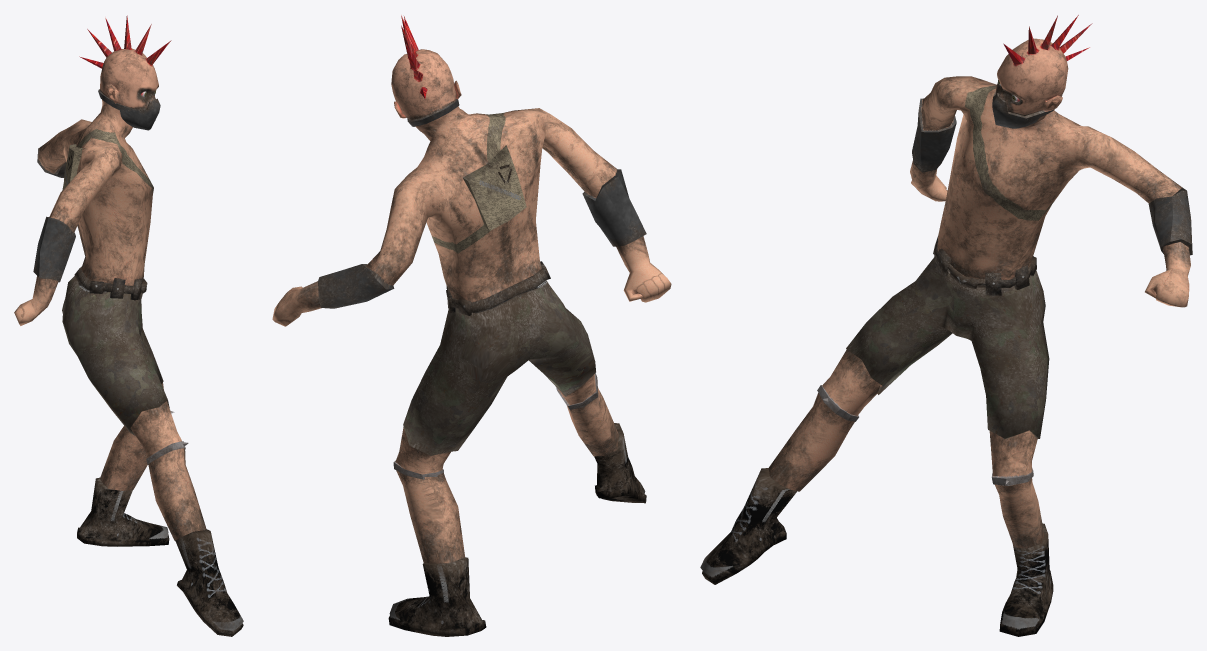
Rendered from Anim_ataque_f2_npc2.0023.obj.
The picture shows the model from 3 angles, left to right: view 1: azimuth 30°, elevation 25°; view 2: azimuth 150°, elevation 25°; view 3: azimuth 270°, elevation 25°; orthographic projection. The views are drawn at different scales.
Parts seen in each view (by area): view 1: polySurface1; view 2: polySurface1; view 3: polySurface1.
Boxes of the visible parts, bbox=[...] form: polySurface1: bbox=[14, 15, 243, 636]; polySurface1: bbox=[272, 15, 671, 636]; polySurface1: bbox=[700, 15, 1192, 636].
Size of the model in its own units: 4.42 by 9.63 by 7.05.
